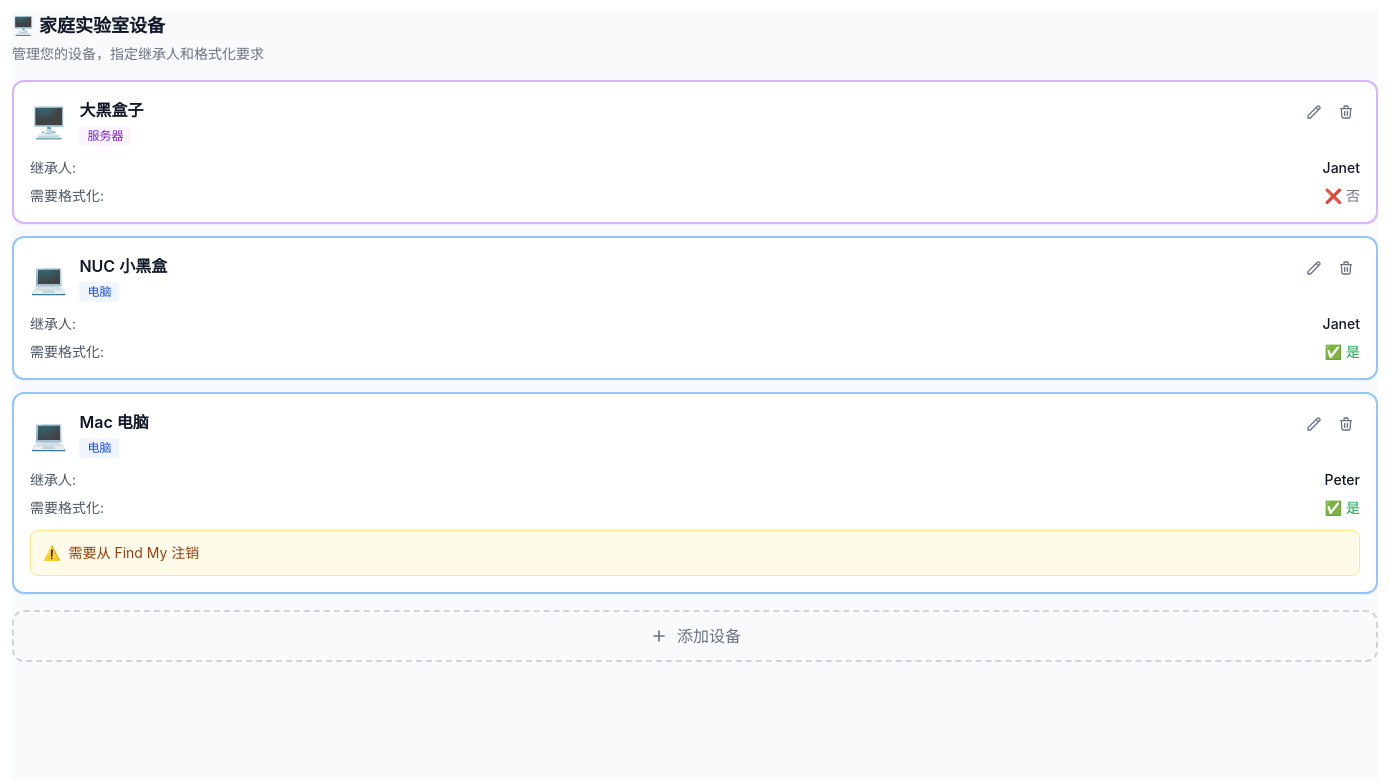
Test: DeviceCardList › Edit Device › should show form when edit button is clicked
Step 1. Click the button with test id "device-edit-button" in the row of "大黑盒子" → click(1314, 112), box [1300,98,1328,126]
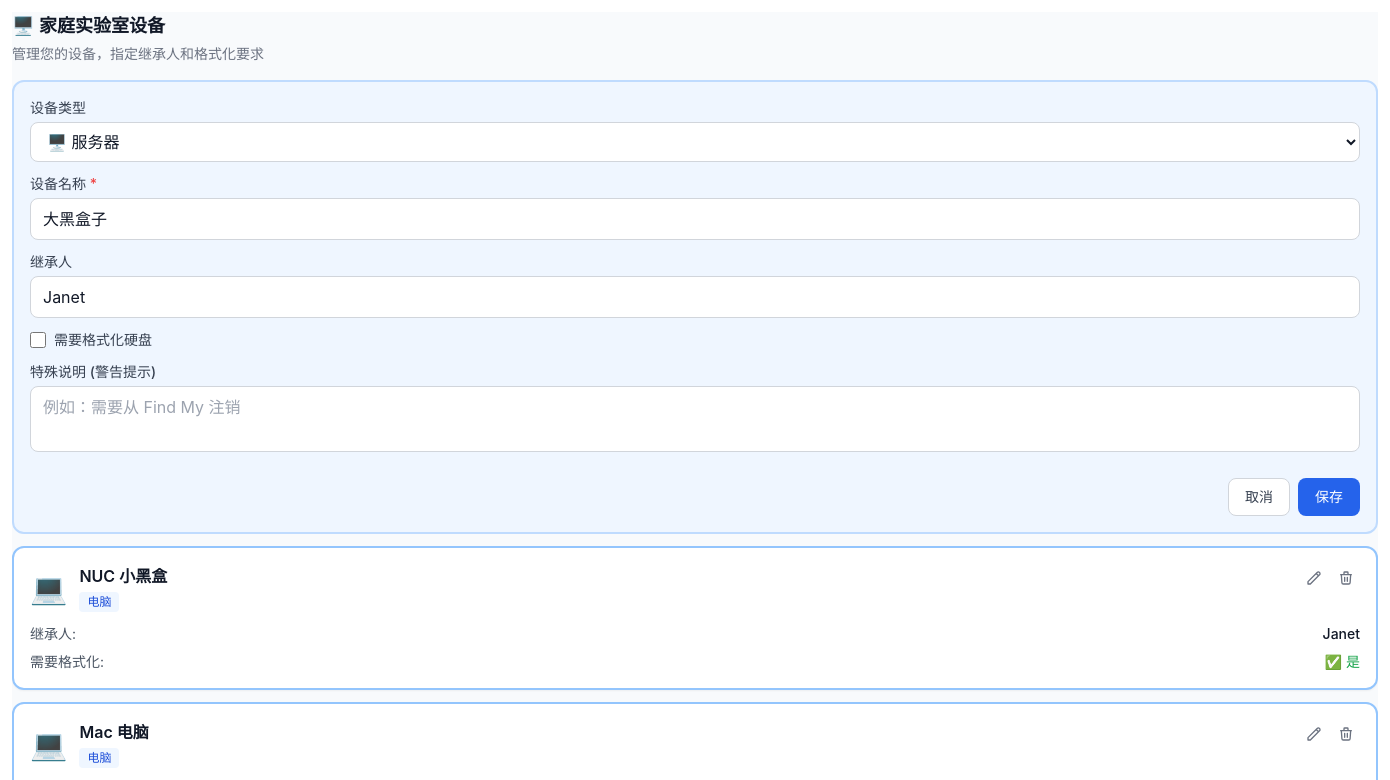
Expected: the form with test id "device-card-form" is shown, [12,80,1378,534]
